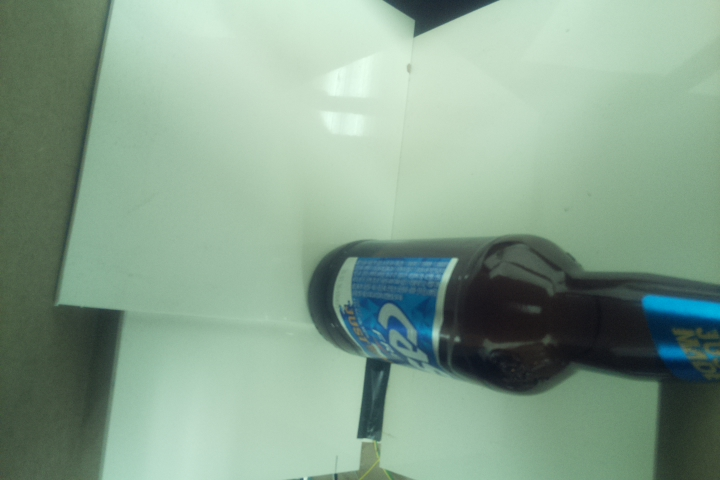makju: (304, 232, 720, 399)
